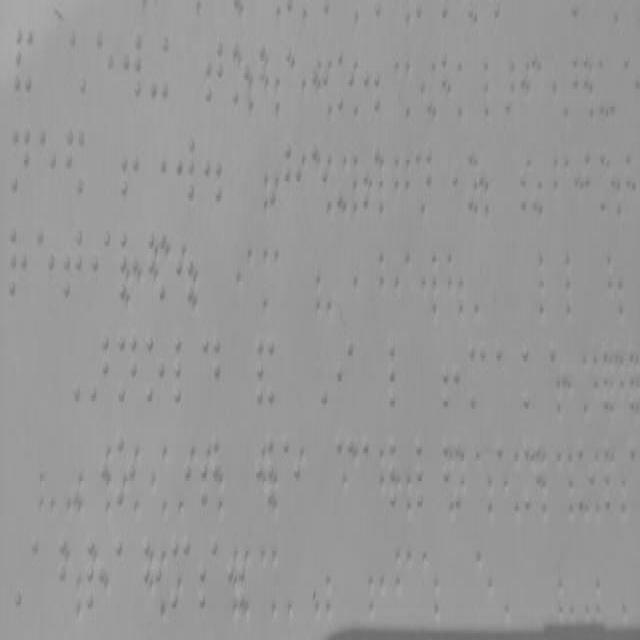braiile: (115, 331, 141, 411), (465, 331, 489, 416), (174, 129, 198, 209), (8, 222, 32, 302), (172, 336, 196, 416), (198, 332, 222, 410), (115, 531, 137, 616), (145, 330, 167, 412), (94, 24, 116, 104), (62, 222, 84, 302), (334, 334, 356, 414), (198, 538, 220, 618), (203, 37, 227, 110), (122, 28, 144, 106), (387, 332, 409, 410), (29, 534, 51, 612), (520, 342, 544, 413), (35, 219, 55, 301), (38, 120, 58, 200), (91, 222, 111, 302), (416, 431, 436, 511), (281, 432, 301, 510), (494, 338, 514, 413), (12, 123, 32, 197), (362, 434, 382, 508), (336, 42, 354, 114), (570, 49, 588, 120), (414, 146, 434, 206), (285, 137, 301, 206)
